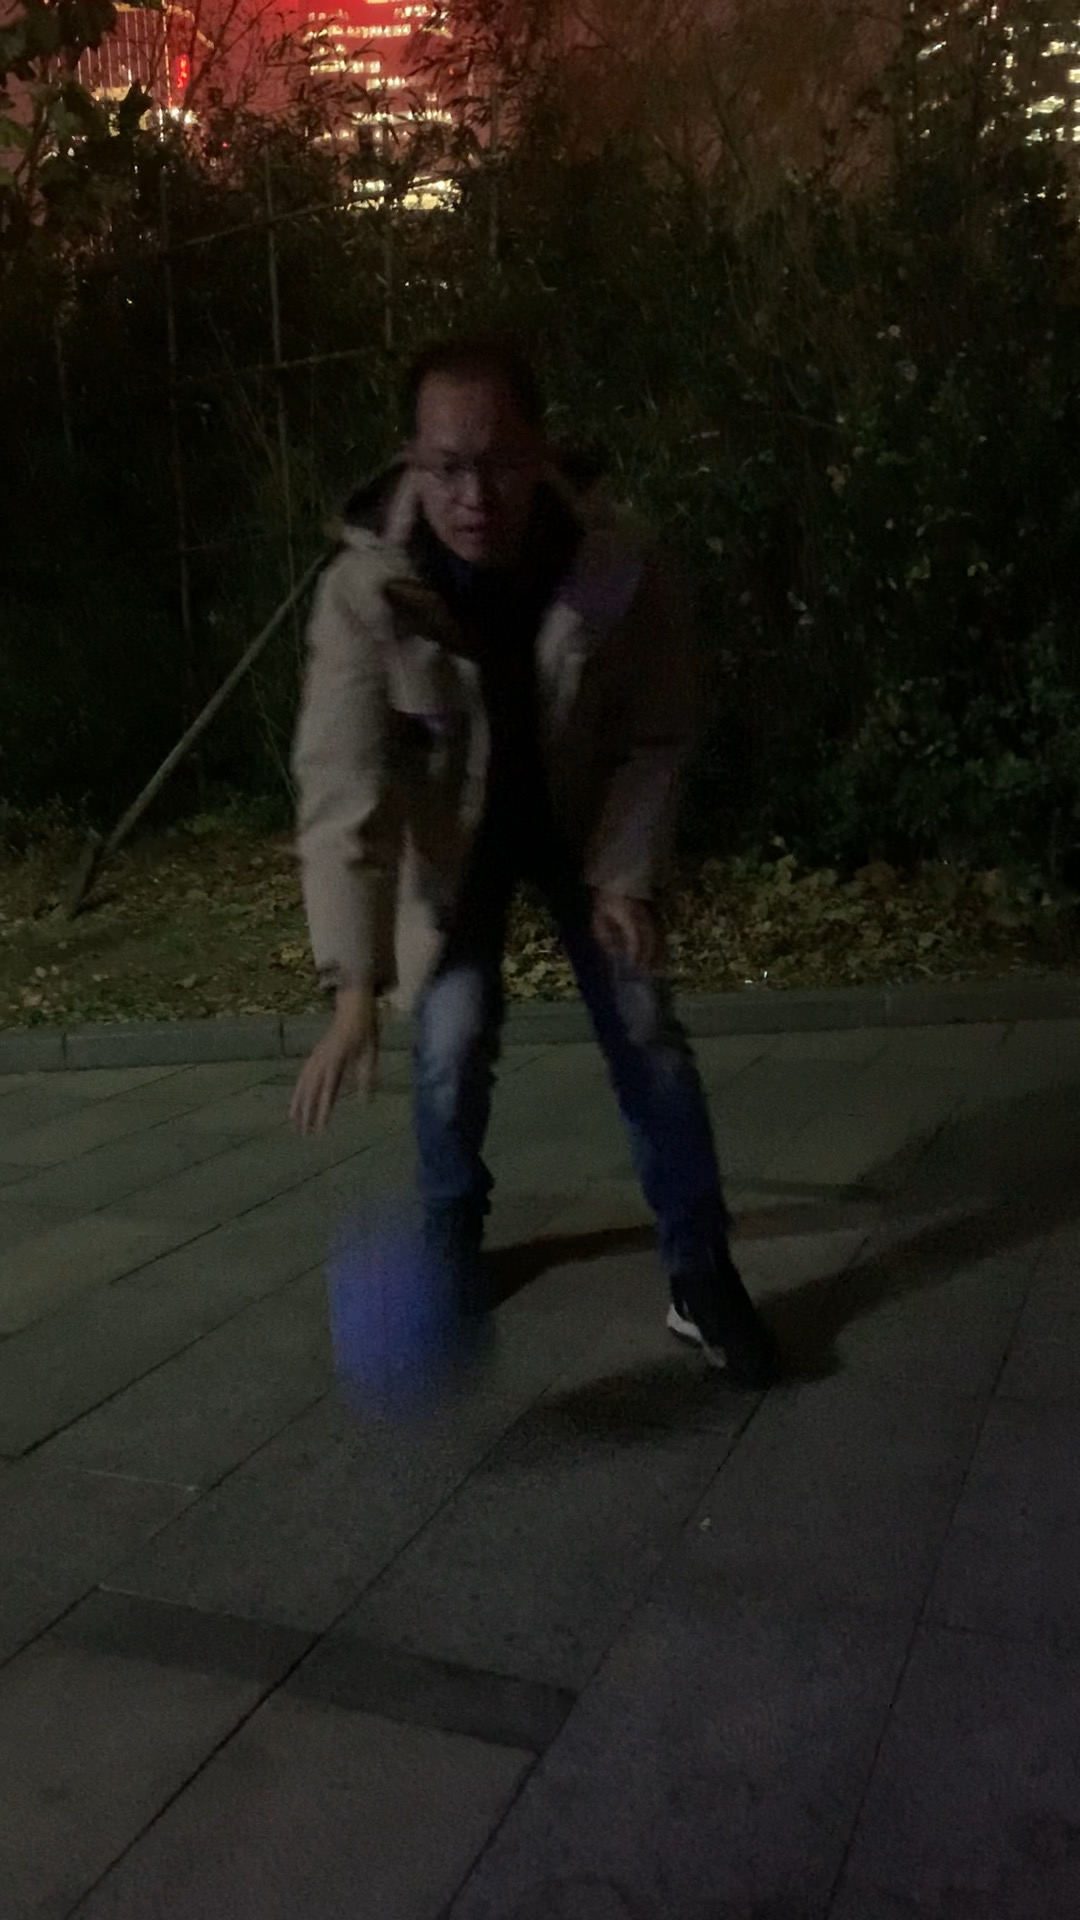ball: (328, 1244, 506, 1406)
